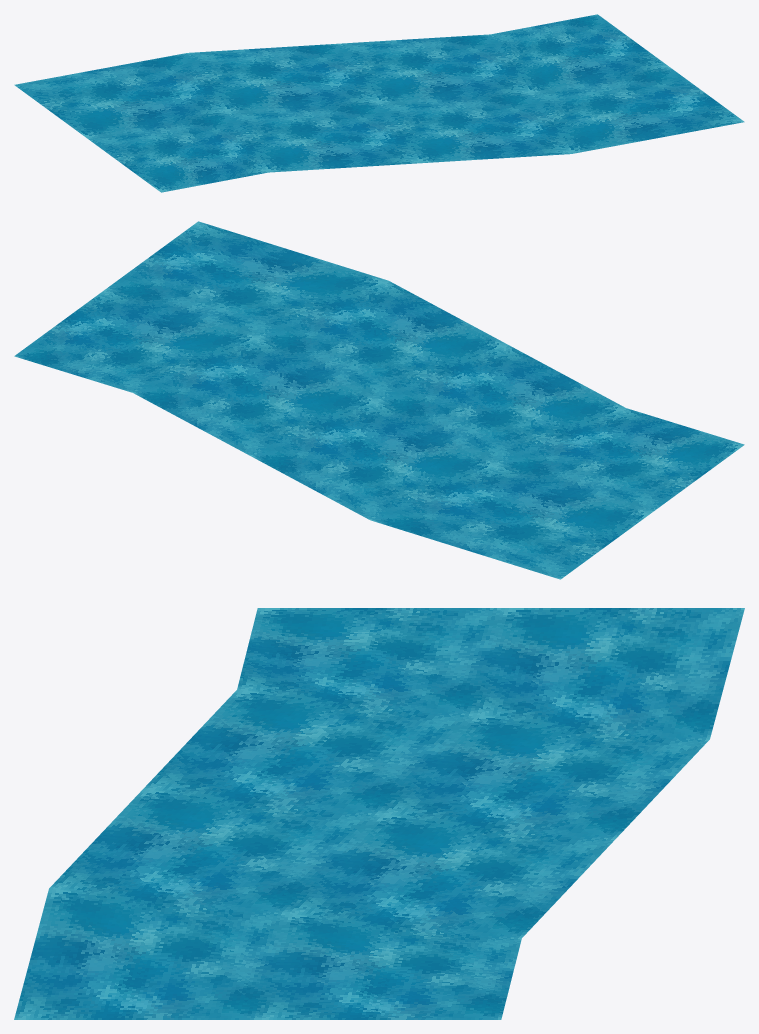
The model's file is Terrain_Water_River_Esse_CW_3x4.fbx.
3 renders of one model, top to bottom at view 1: azimuth 30°, elevation 25°; view 2: azimuth 150°, elevation 25°; view 3: azimuth 270°, elevation 25°, orthographic. The views are drawn at different scales.
Visible parts, largest first — view 1: Terrain_Water_River_Esse_CW_3x4; view 2: Terrain_Water_River_Esse_CW_3x4; view 3: Terrain_Water_River_Esse_CW_3x4.
Boxes of the visible parts, x1,y1,x2,y2 form: Terrain_Water_River_Esse_CW_3x4: [14, 14, 744, 192]; Terrain_Water_River_Esse_CW_3x4: [14, 221, 744, 579]; Terrain_Water_River_Esse_CW_3x4: [14, 608, 744, 1019].
Bounding box in the file's own units: 400 × 9.43e-05 × 300.
